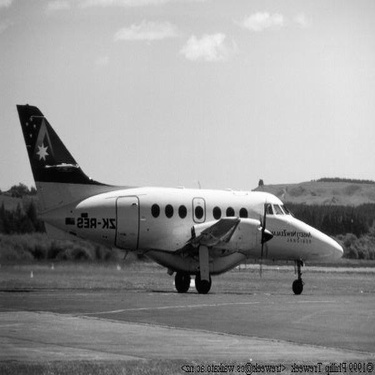airplane: (8, 90, 350, 300)
